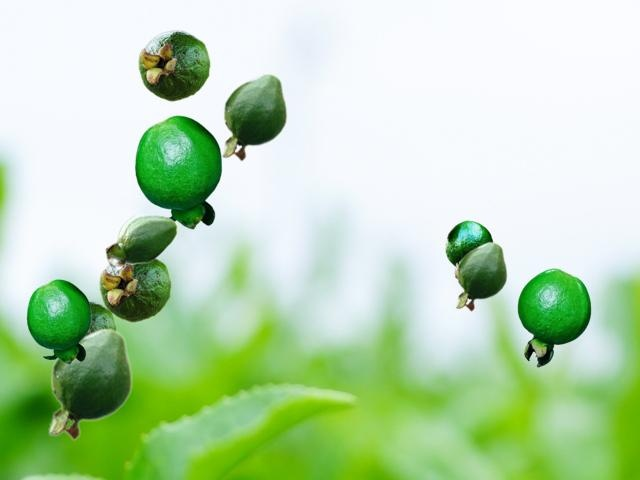guava: (134, 115, 221, 228), (48, 327, 131, 440), (517, 268, 590, 366), (221, 72, 286, 161), (26, 279, 90, 363), (138, 30, 209, 100), (99, 258, 170, 321), (105, 214, 177, 269), (455, 241, 506, 311), (445, 220, 492, 277), (89, 300, 115, 332)
